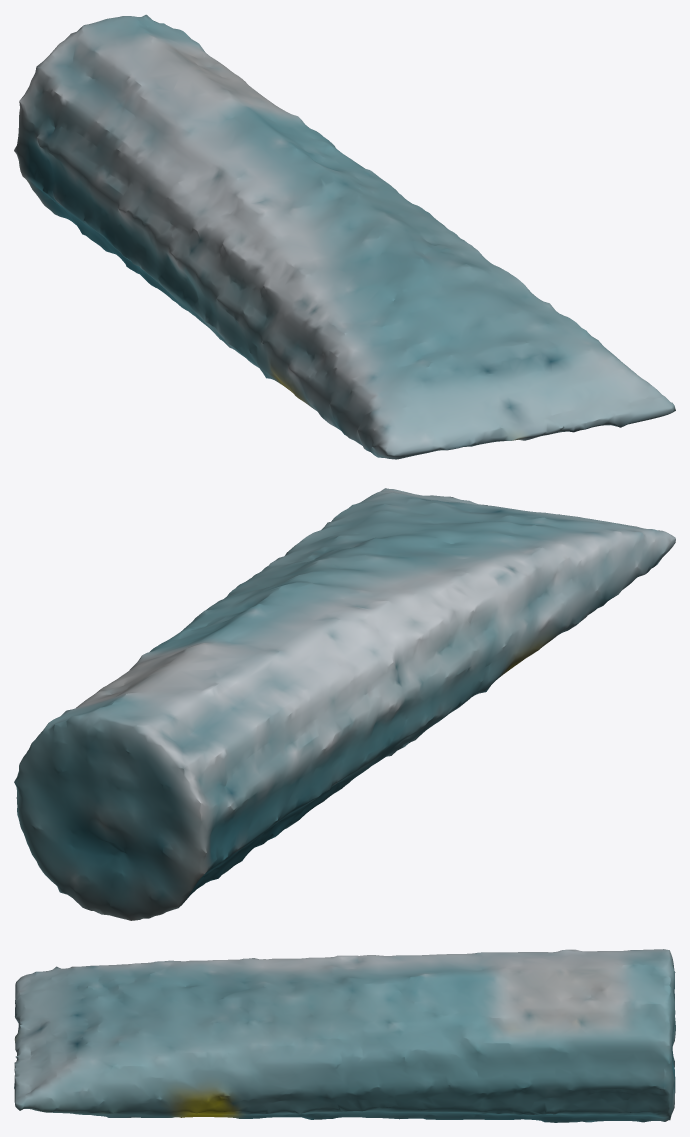
The model's file is oil.glb.
3 renders of one model, top to bottom at view 1: azimuth 30°, elevation 25°; view 2: azimuth 150°, elevation 25°; view 3: azimuth 270°, elevation 25°, orthographic. The views are drawn at different scales.
Bounding box in the file's own units: 0.3918 × 0.2533 × 0.9951.
